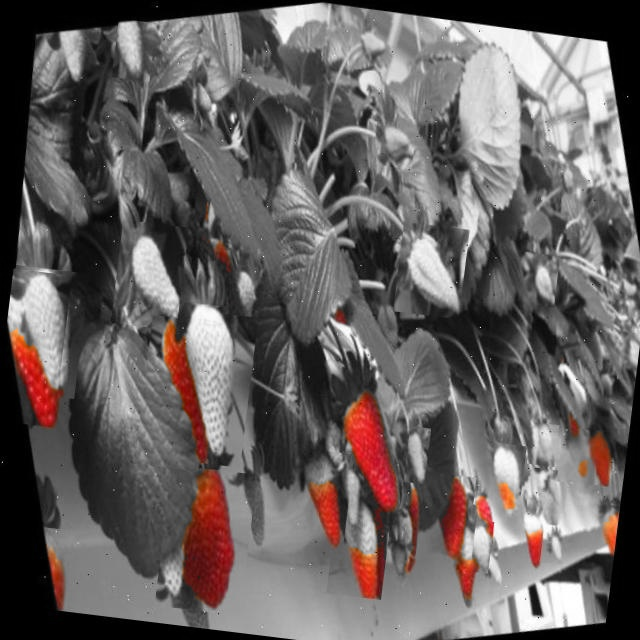ripe: (154, 464, 257, 615), (320, 377, 414, 525), (415, 472, 481, 566), (573, 424, 617, 486), (603, 500, 620, 563)
unripe: (154, 300, 258, 467), (134, 314, 216, 472), (0, 265, 89, 399), (0, 268, 71, 427), (110, 220, 188, 330), (284, 448, 354, 560), (393, 222, 469, 318), (326, 500, 392, 600), (29, 526, 75, 611), (473, 440, 527, 510), (48, 24, 98, 91), (322, 464, 370, 530), (112, 18, 156, 82), (557, 426, 601, 486), (524, 467, 568, 526), (372, 114, 418, 170), (309, 418, 350, 480), (348, 18, 394, 72), (392, 424, 432, 484), (518, 252, 560, 308), (456, 518, 494, 574), (587, 502, 620, 562), (224, 264, 260, 317), (526, 422, 558, 467), (616, 331, 640, 380), (476, 548, 501, 586), (540, 529, 566, 564)
